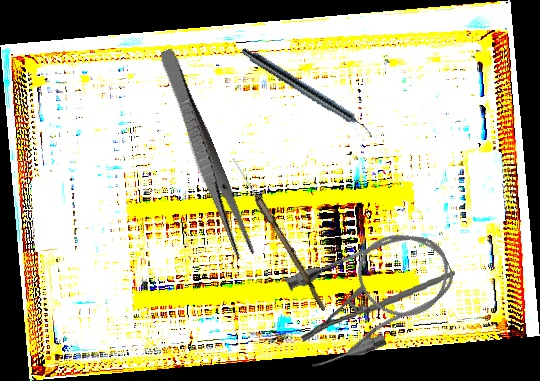Cannula: (275, 215, 469, 376)
Dressing Forceps: (151, 47, 258, 261)
Handpiece: (237, 44, 379, 141)
Needle Holder: (296, 270, 459, 344)
Surgical Spoon: (228, 155, 330, 312)
